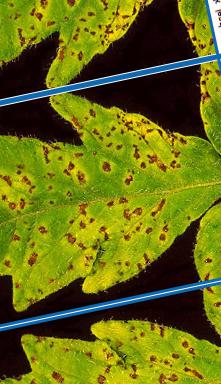Tomato leaf bacterial spot: (0, 63, 221, 329)
